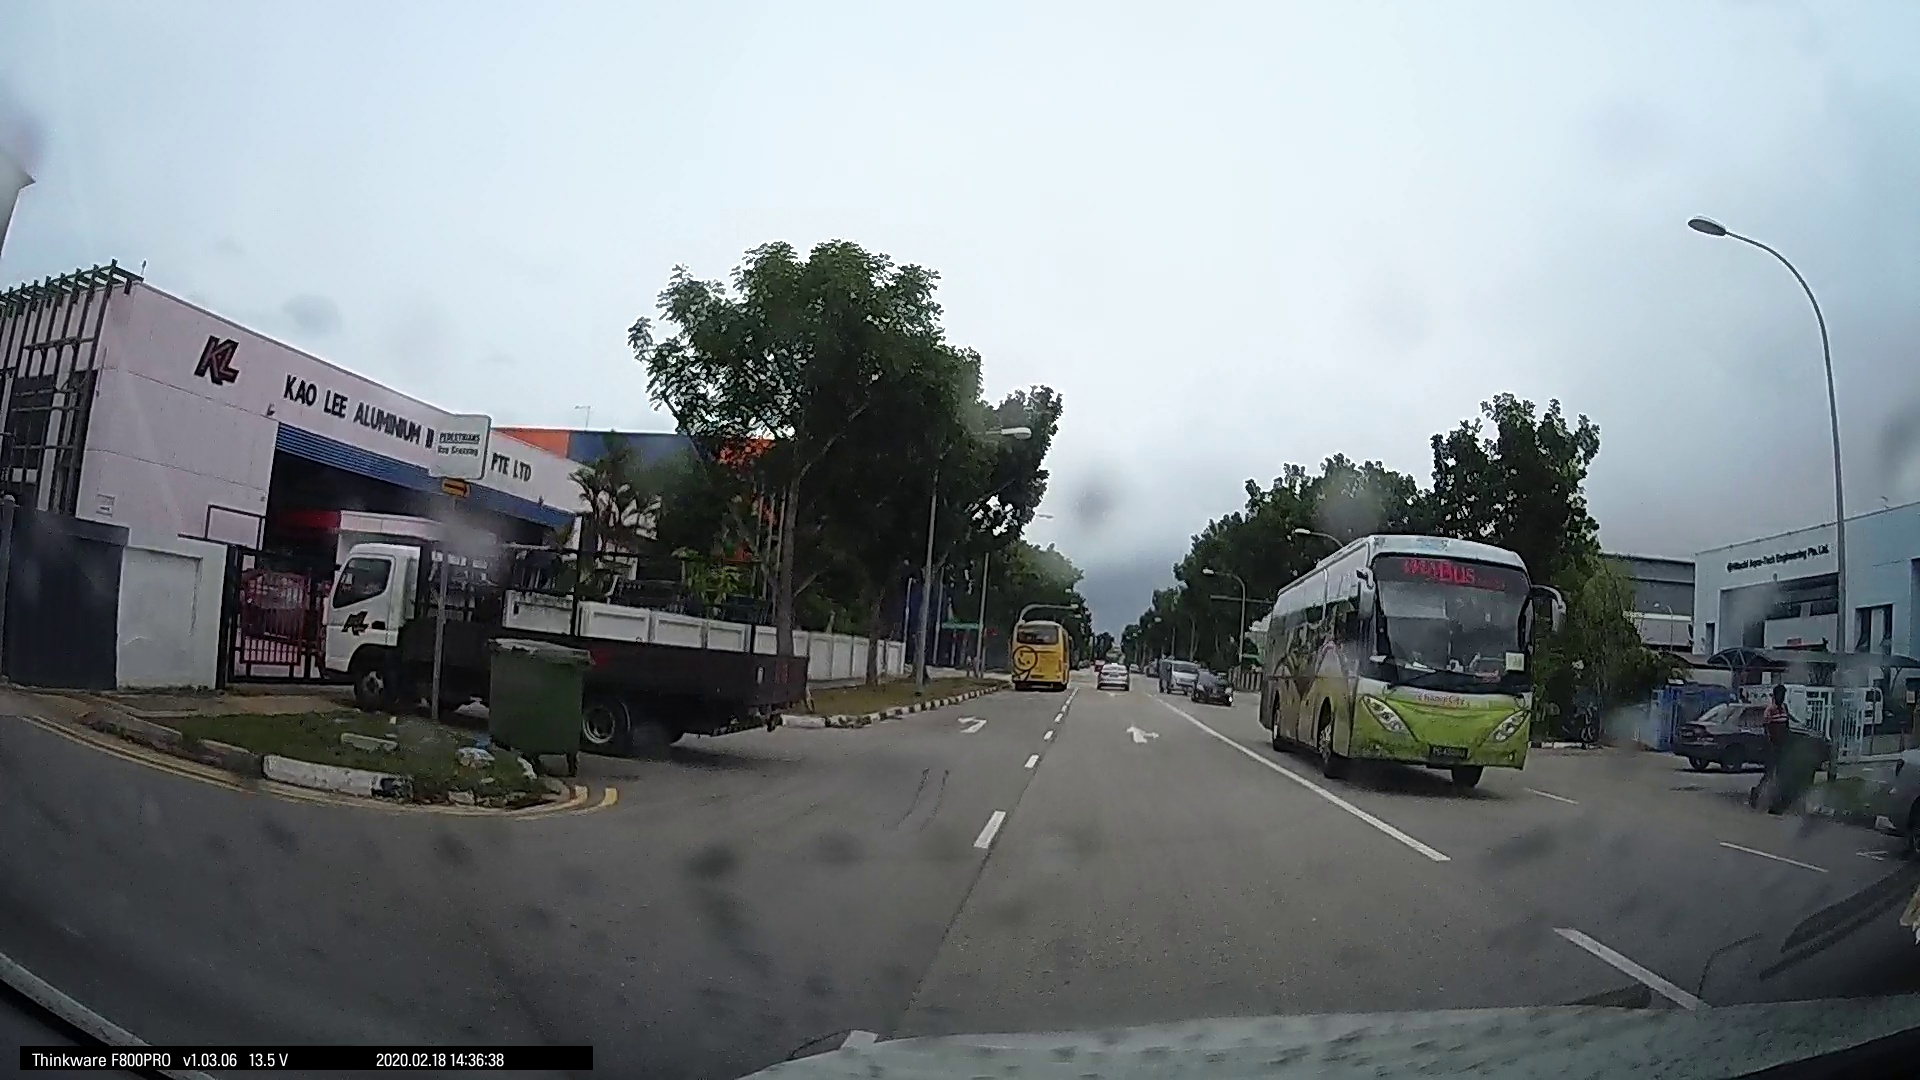Heavy Vehicle: (1, 1, 316, 1013)
Light Vehicle: (1621, 688, 1919, 909), (989, 644, 1124, 771), (1408, 649, 1564, 721), (1199, 647, 1327, 711), (529, 611, 632, 666), (779, 640, 878, 684), (1124, 647, 1178, 700)
Motorcycle: (889, 644, 928, 728)
